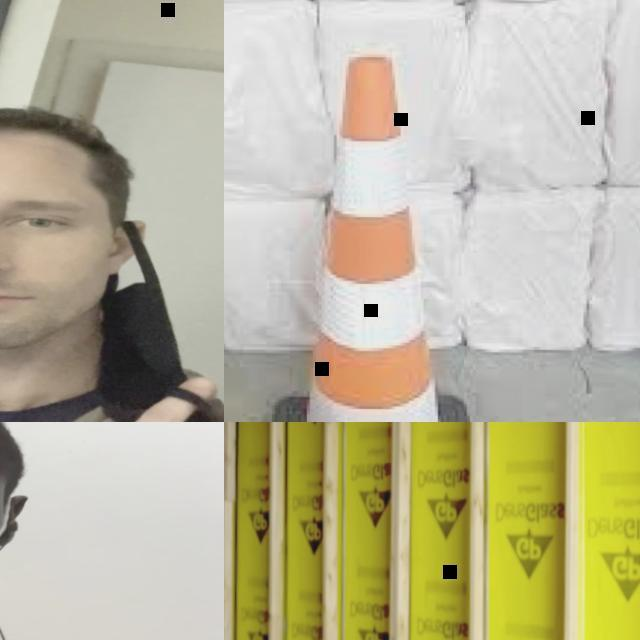no_helmet: (0, 106, 146, 176)
no_mask: (0, 241, 140, 350)
person: (0, 98, 224, 422), (0, 422, 224, 640)
safety_cone: (253, 50, 498, 422)
